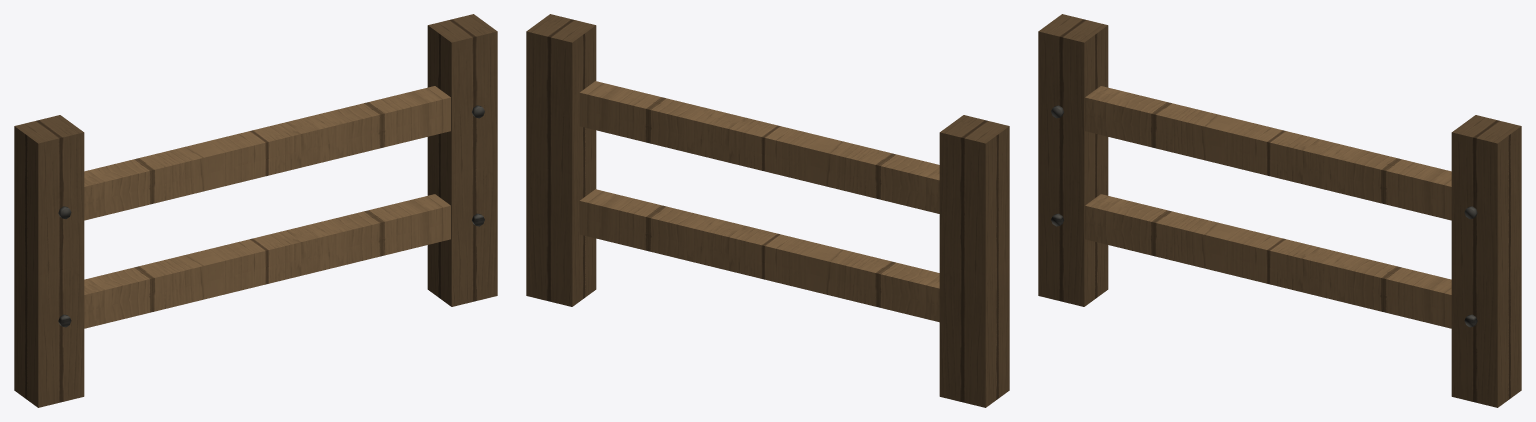
Rendered from env_fence_straight_a_v001.glb.
3 renders of one model, left to right at view 1: azimuth 30°, elevation 25°; view 2: azimuth 150°, elevation 25°; view 3: azimuth 330°, elevation 25°, orthographic.
Visible parts, largest first — view 1: env_fence_straight_a_LOD0_mesh, env_fence_straight_a_LOD1_mesh; view 2: env_fence_straight_a_LOD0_mesh, env_fence_straight_a_LOD1_mesh; view 3: env_fence_straight_a_LOD1_mesh, env_fence_straight_a_LOD0_mesh.
Part boxes in pixels (x1=…): env_fence_straight_a_LOD0_mesh: x1=16, y1=17, x2=493, y2=402; env_fence_straight_a_LOD1_mesh: x1=14, y1=14, x2=497, y2=407; env_fence_straight_a_LOD0_mesh: x1=530, y1=17, x2=1007, y2=402; env_fence_straight_a_LOD1_mesh: x1=526, y1=14, x2=1009, y2=407; env_fence_straight_a_LOD1_mesh: x1=1038, y1=14, x2=1521, y2=407; env_fence_straight_a_LOD0_mesh: x1=1042, y1=17, x2=1519, y2=401.
Size of the model in its own units: 2 by 1.1 by 0.218.
3 materials, 3 textured.
